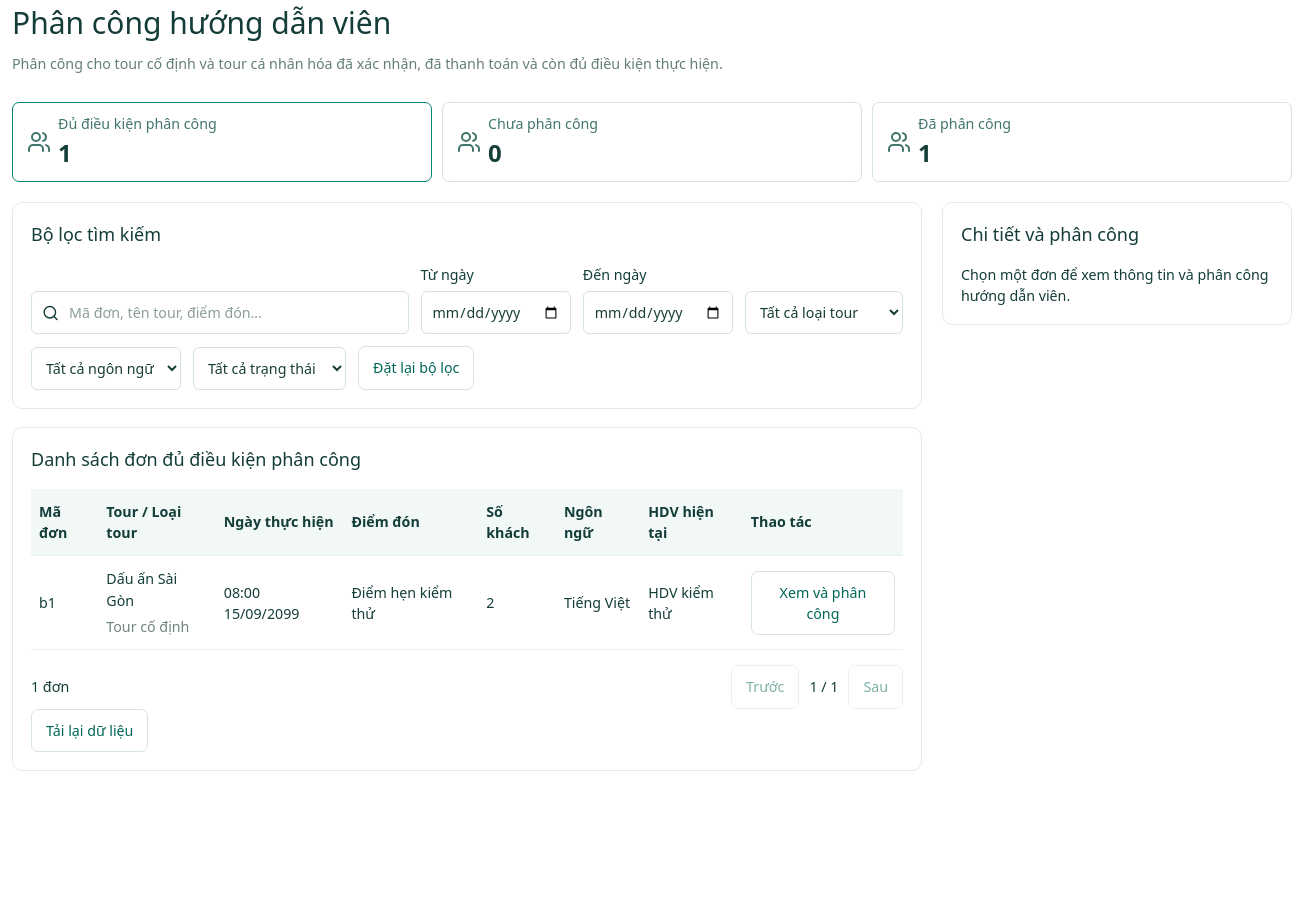
Test case: same guide does not create a new assignment
Click the button "Xem và phân công" at [823, 603], box left=751, top=571, right=895, bottom=635
(page scrolled)
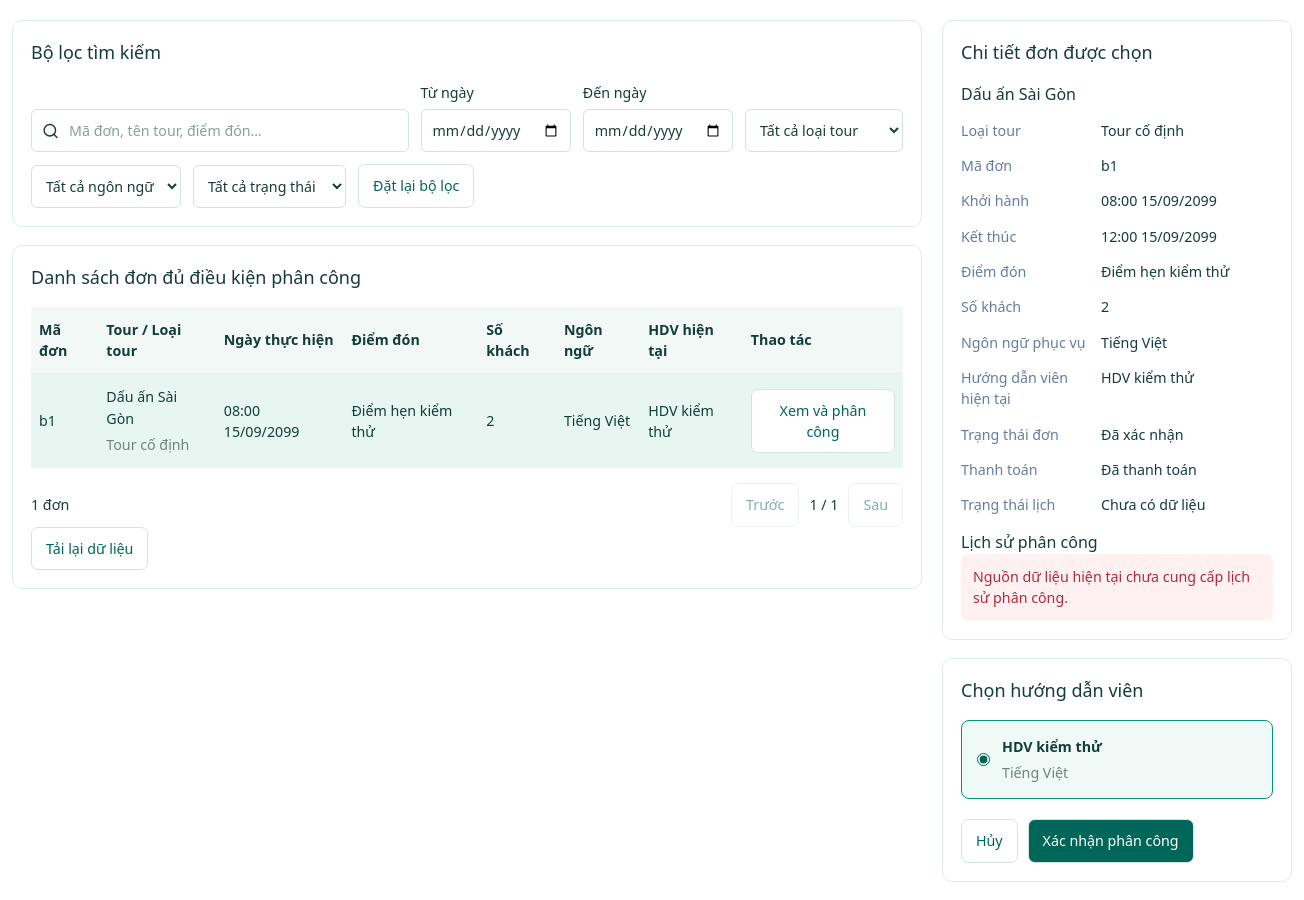
Click the button "Xác nhận phân công" at [1111, 841], box left=1028, top=819, right=1194, bottom=862
(page scrolled)
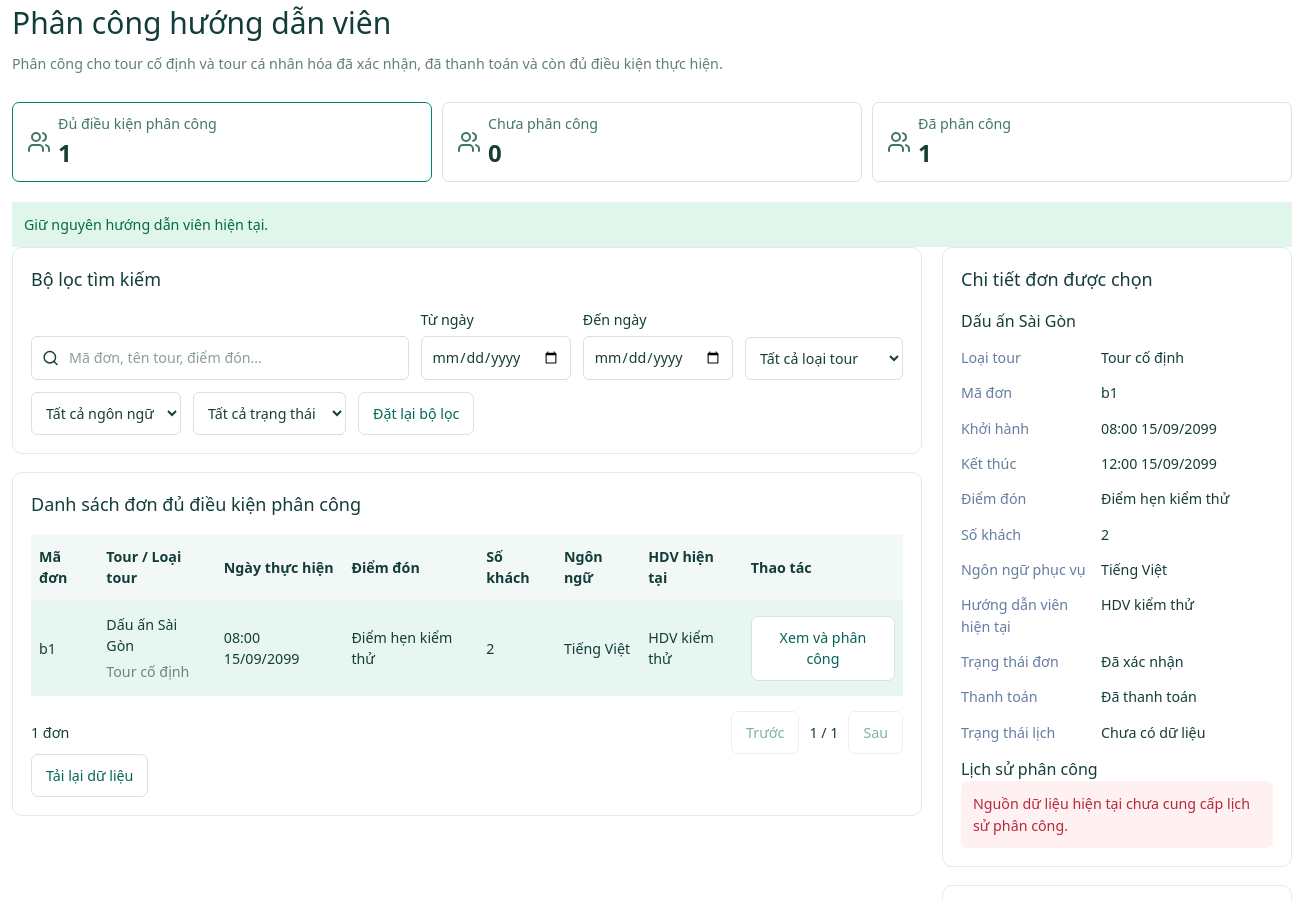
Expected: the text "Giữ nguyên hướng dẫn viên hiện tại." is shown, left=12, top=202, right=1292, bottom=247
